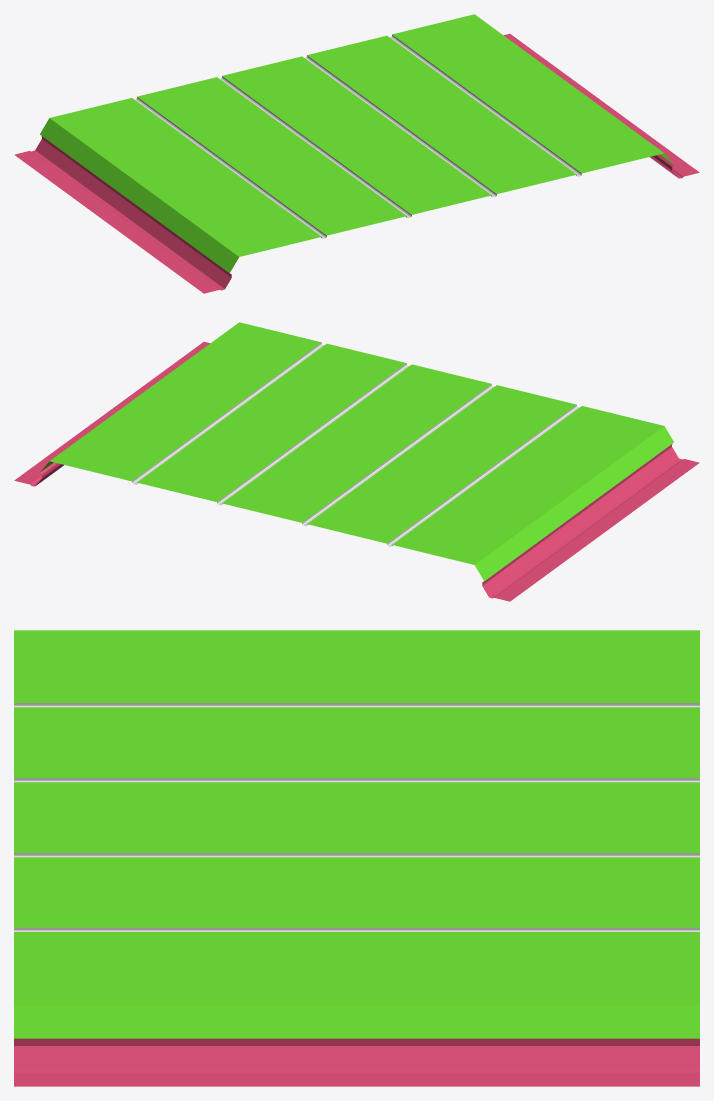
The model's file is Roof.fbx.
3 renders of one model, top to bottom at view 1: azimuth 30°, elevation 25°; view 2: azimuth 150°, elevation 25°; view 3: azimuth 270°, elevation 25°, orthographic. The views are drawn at different scales.
Visible parts, largest first — view 1: Plane.001; view 2: Plane.001; view 3: Plane.001.
Part boxes in pixels (bbox=[...]): Plane.001: bbox=[14, 14, 699, 293]; Plane.001: bbox=[14, 322, 699, 601]; Plane.001: bbox=[14, 630, 699, 1086].
Size of the model in its own units: 1506 by 84.89 by 999.
